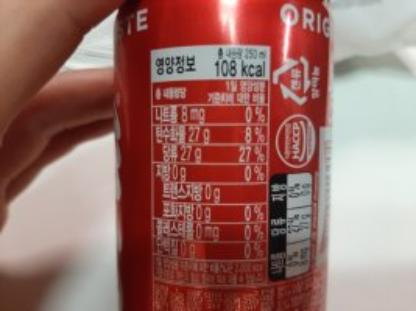Can: (115, 1, 333, 311)
